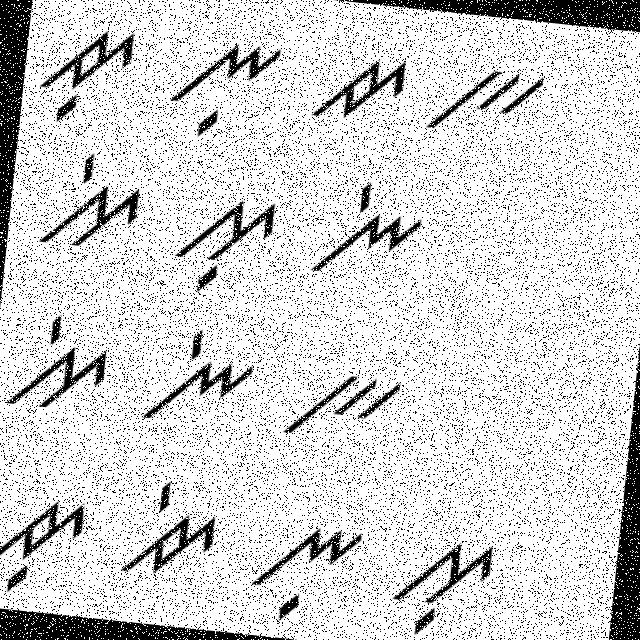ja: (308, 49, 413, 134)
je: (114, 475, 224, 590)
ju: (32, 14, 141, 134), (0, 481, 89, 605)
nye: (300, 177, 428, 296), (135, 321, 256, 437)
nyu: (156, 24, 288, 148), (241, 513, 368, 632)
se: (25, 143, 148, 261), (4, 306, 117, 422)
su: (170, 186, 282, 302), (388, 521, 498, 639)
